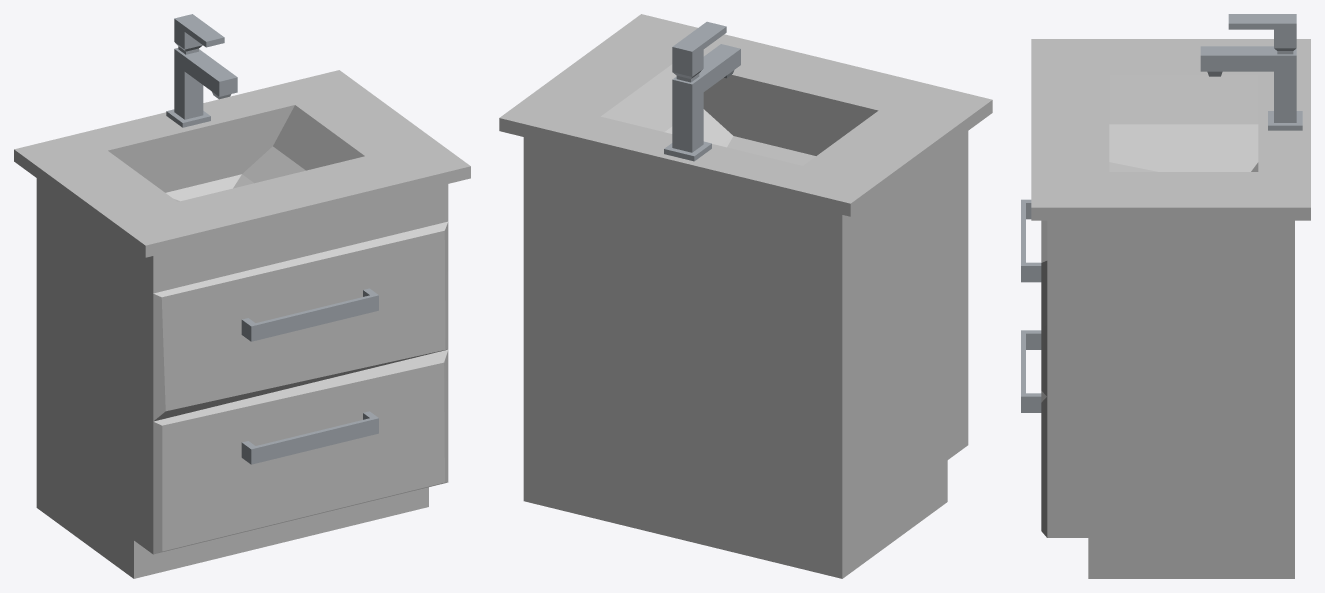
The model's file is SM_Prop_BathroomSink_02_705.obj.
The picture shows the model from 3 angles, left to right: view 1: azimuth 30°, elevation 25°; view 2: azimuth 150°, elevation 25°; view 3: azimuth 270°, elevation 25°; orthographic projection. The views are drawn at different scales.
Parts seen in each view (by area): view 1: SM_Prop_BathroomSink_02_0; view 2: SM_Prop_BathroomSink_02_0; view 3: SM_Prop_BathroomSink_02_0.
Boxes of the visible parts, box(x1,y1,x2,y2) form: SM_Prop_BathroomSink_02_0: box(14, 14, 470, 578); SM_Prop_BathroomSink_02_0: box(499, 14, 992, 578); SM_Prop_BathroomSink_02_0: box(1021, 14, 1310, 578).
Bounding box in the file's own units: 0.9277 × 1.24 × 0.6732.
Materials: 1 (1 with a texture image).
